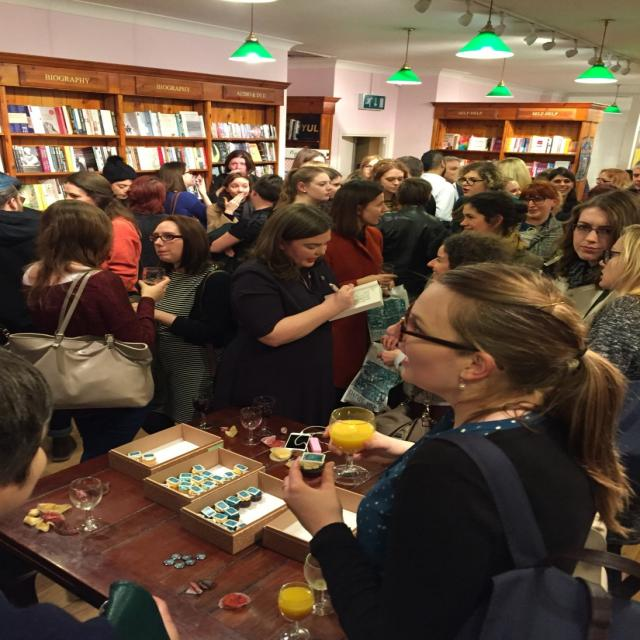body: (262, 258, 639, 639), (0, 344, 178, 640), (15, 199, 172, 465), (226, 200, 360, 432), (404, 231, 520, 445), (130, 213, 239, 434), (2, 196, 82, 464), (581, 224, 640, 540), (322, 178, 400, 390), (538, 188, 640, 328), (62, 172, 144, 294), (376, 177, 453, 295), (207, 174, 286, 274), (459, 190, 536, 272), (512, 178, 570, 264), (448, 160, 509, 237), (124, 174, 172, 268), (158, 161, 214, 232), (417, 149, 457, 225), (392, 154, 438, 219), (271, 165, 334, 211), (209, 171, 256, 232), (210, 149, 262, 204), (536, 166, 585, 217), (366, 158, 411, 213), (102, 154, 140, 204), (340, 153, 383, 185), (316, 166, 343, 216), (498, 158, 531, 191), (595, 167, 632, 191), (290, 148, 327, 170), (488, 176, 523, 199), (583, 183, 623, 198), (446, 156, 463, 182), (627, 160, 640, 191)
